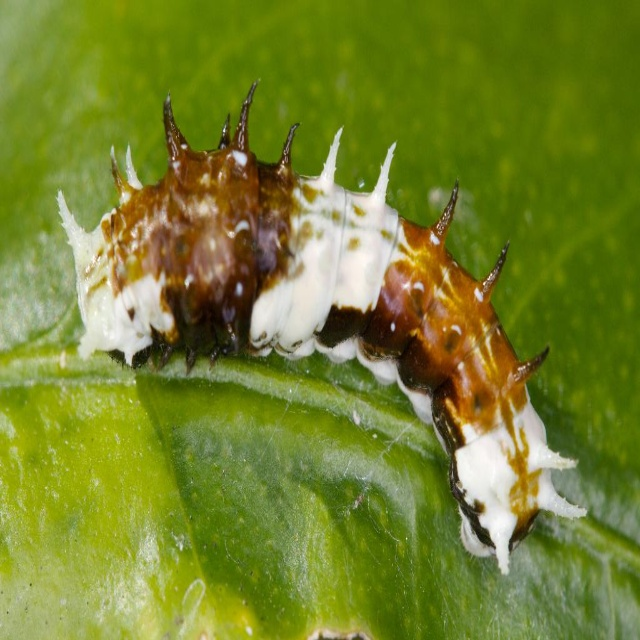Caterpillar: (57, 76, 589, 579)
